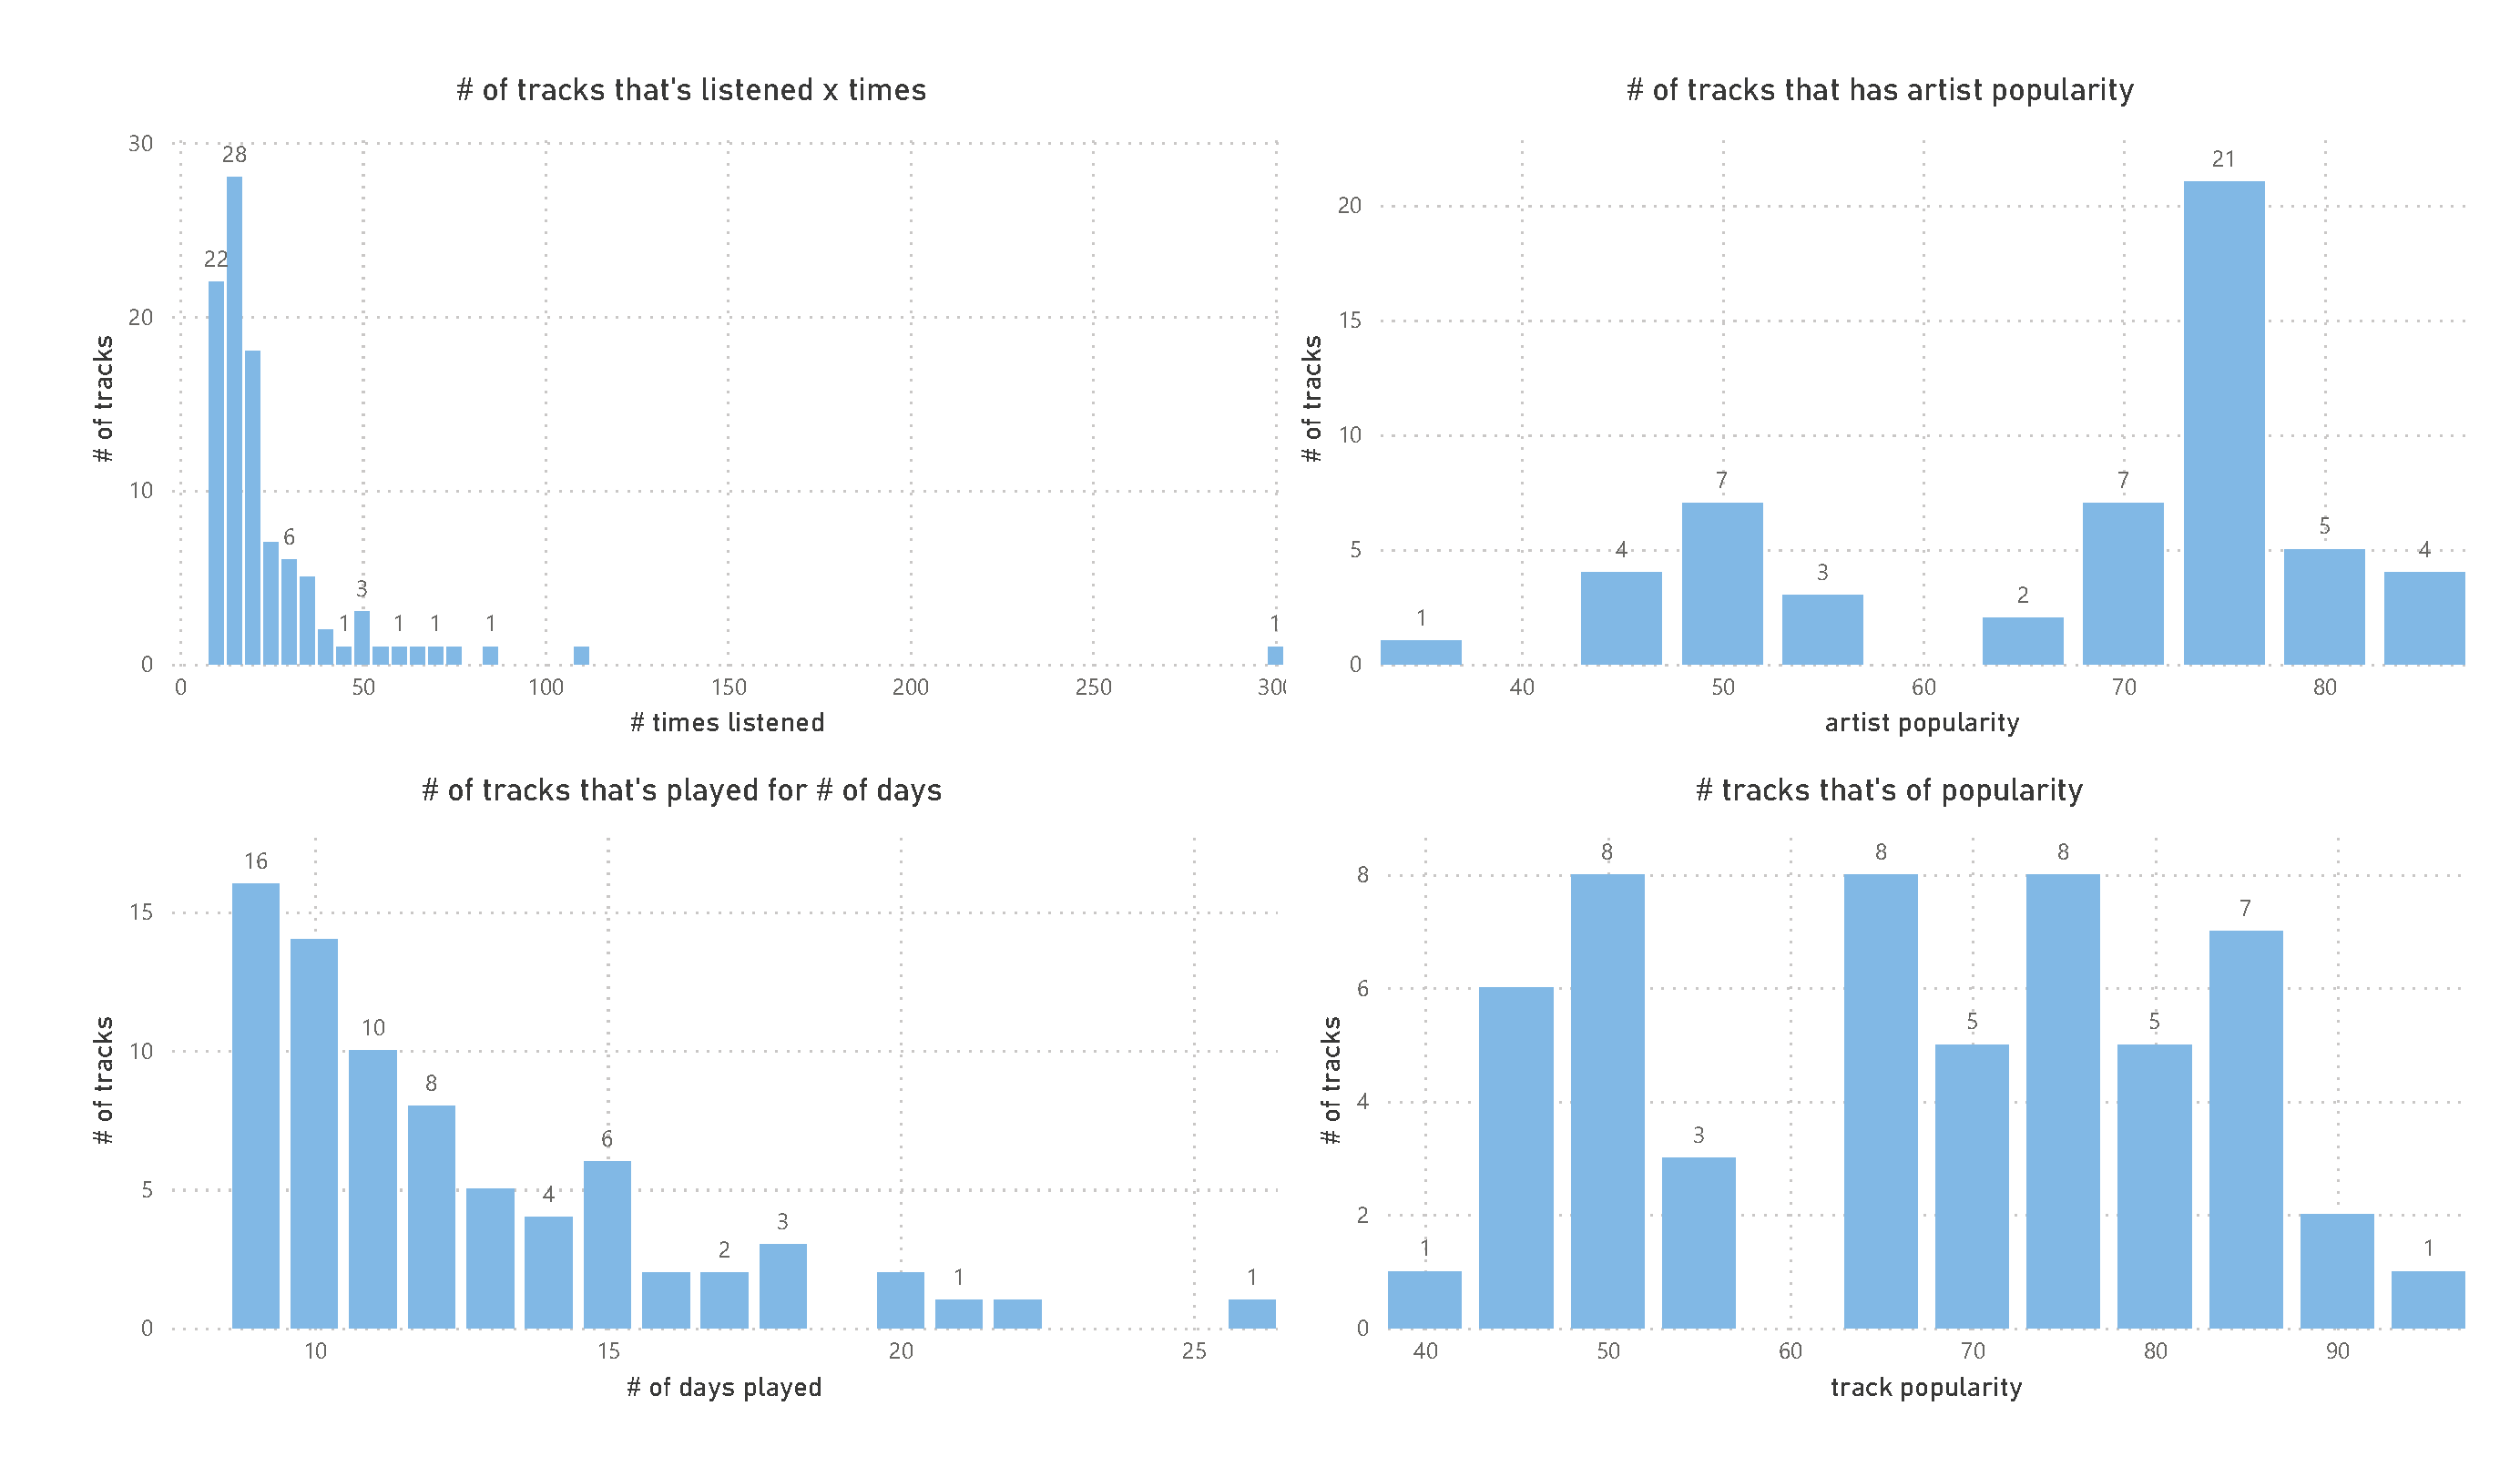

Layout of this report page (visuals, bound fields, positions):
{"tool":"powerbi","page":{"name":"TOP 54 Played Tracks According to Times Listened and Days Listened","canvas":[1280,720],"ordinal":0},"visuals":[{"type":"clusteredColumnChart","title":"# of tracks that''s listened x times","fields":{"Category":["top_played_hist_co_data.bin_floor"],"Y":["Sum(top_played_hist_co_data.tracks_num)"]},"box":[17.1,12.9,647.1,357.1],"z":0},{"type":"clusteredColumnChart","title":"# of tracks that''s played for # of days","fields":{"Category":["top_days_played_tracks_hist_data.bin_floor"],"Y":["Sum(top_days_played_tracks_hist_data.tracks_num)"]},"box":[16.9,382.3,636.8,337.7],"z":1000},{"type":"clusteredColumnChart","title":"# tracks that''s of popularity","fields":{"Category":["top_54_played_hist_data_popularity.bin_floor"],"Y":["Sum(top_54_played_hist_data_popularity.tracks_num)"]},"box":[664,382,616,338],"z":2000},{"type":"clusteredColumnChart","title":"# of tracks that has artist popularity","fields":{"Category":["top_54_played_hist_artist_popularity.bin_floor"],"Y":["Sum(top_54_played_hist_artist_popularity.tracks_num)"]},"box":[654.3,12.9,625.7,357.1],"z":3000}]}

Visuals, with their boxes in screenshot pixels (x1, y1, x2, y2):
"# of tracks that''s listened x times" clusteredColumnChart: x1=78, y1=70, x2=1306, y2=748
"# of tracks that''s played for # of days" clusteredColumnChart: x1=77, y1=770, x2=1286, y2=1411
"# tracks that''s of popularity" clusteredColumnChart: x1=1306, y1=770, x2=2474, y2=1411
"# of tracks that has artist popularity" clusteredColumnChart: x1=1287, y1=70, x2=2474, y2=748
